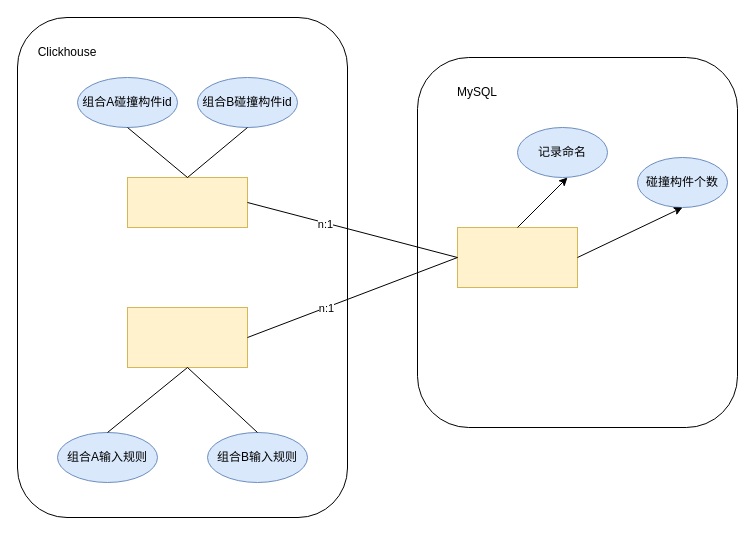
This 755x535 diagram has some shape labels left out. The centre of each missing label's shape, as x and y in pixels:
碰撞构件表: the point at 187,202
碰撞检查记录: the point at 517,257
碰撞输入规则表: the point at 187,337
